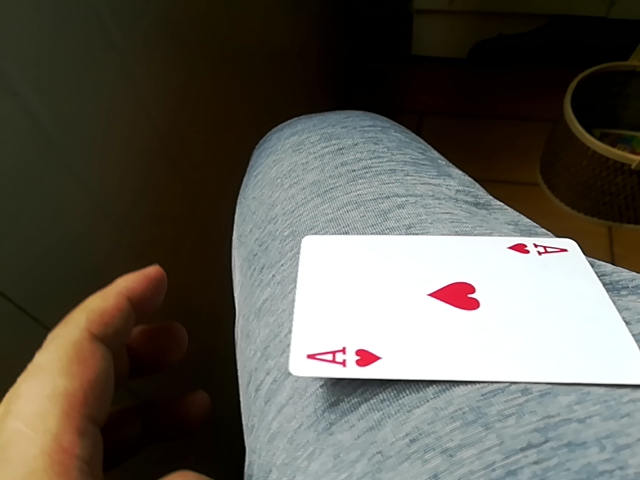hx a: (288, 234, 635, 386)
